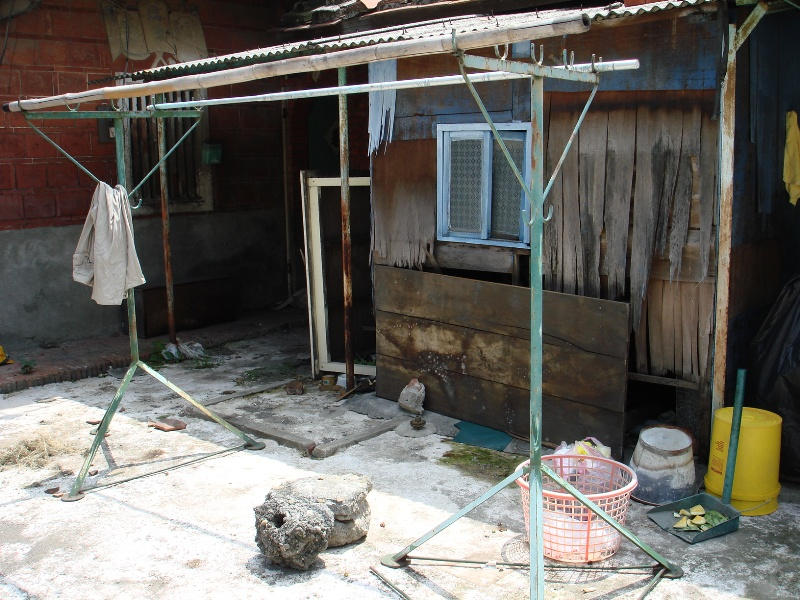bucket: (703, 404, 783, 518), (623, 420, 698, 509)
